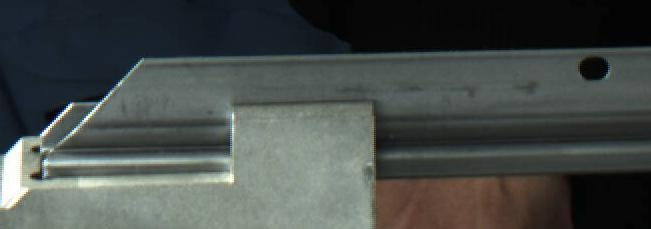cut: (30, 47, 225, 183)
holes: (575, 54, 612, 81)
